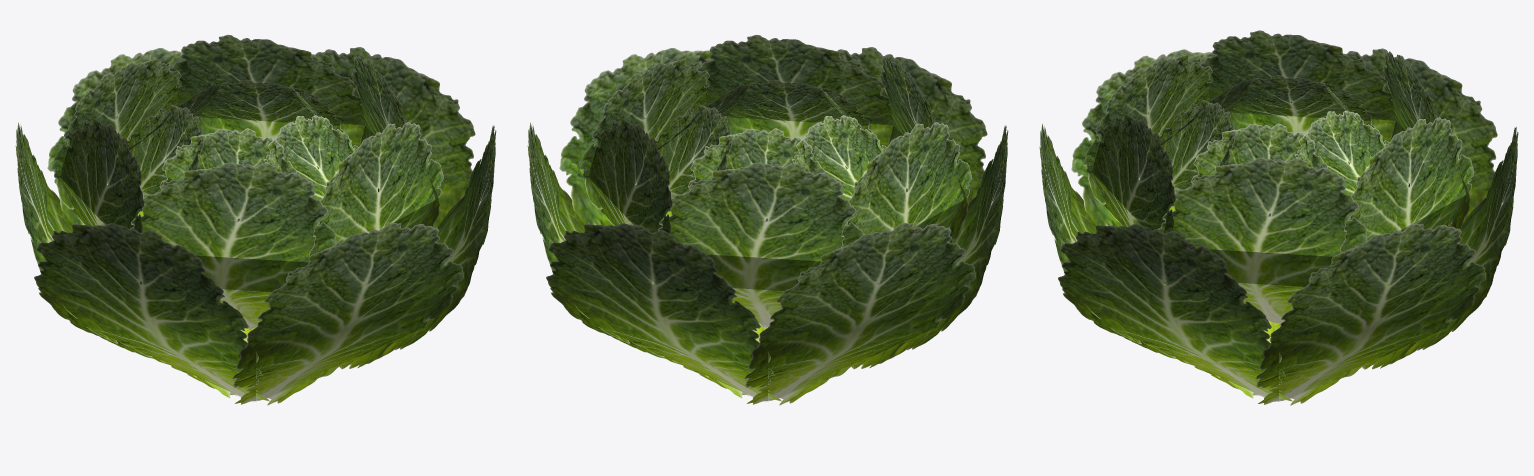
File: Crop.fbx
The picture shows the model from 3 angles, left to right: view 1: azimuth 30°, elevation 25°; view 2: azimuth 150°, elevation 25°; view 3: azimuth 270°, elevation 25°; orthographic projection.
Visible parts, largest first — view 1: Crop; view 2: Crop; view 3: Crop.
Part boxes in pixels (left/top/right/bottom): Crop: left=15, top=34, right=496, bottom=405; Crop: left=527, top=34, right=1008, bottom=405; Crop: left=1039, top=30, right=1518, bottom=405.
Bounding box in the file's own units: 0.2524 × 0.1562 × 0.2194.
